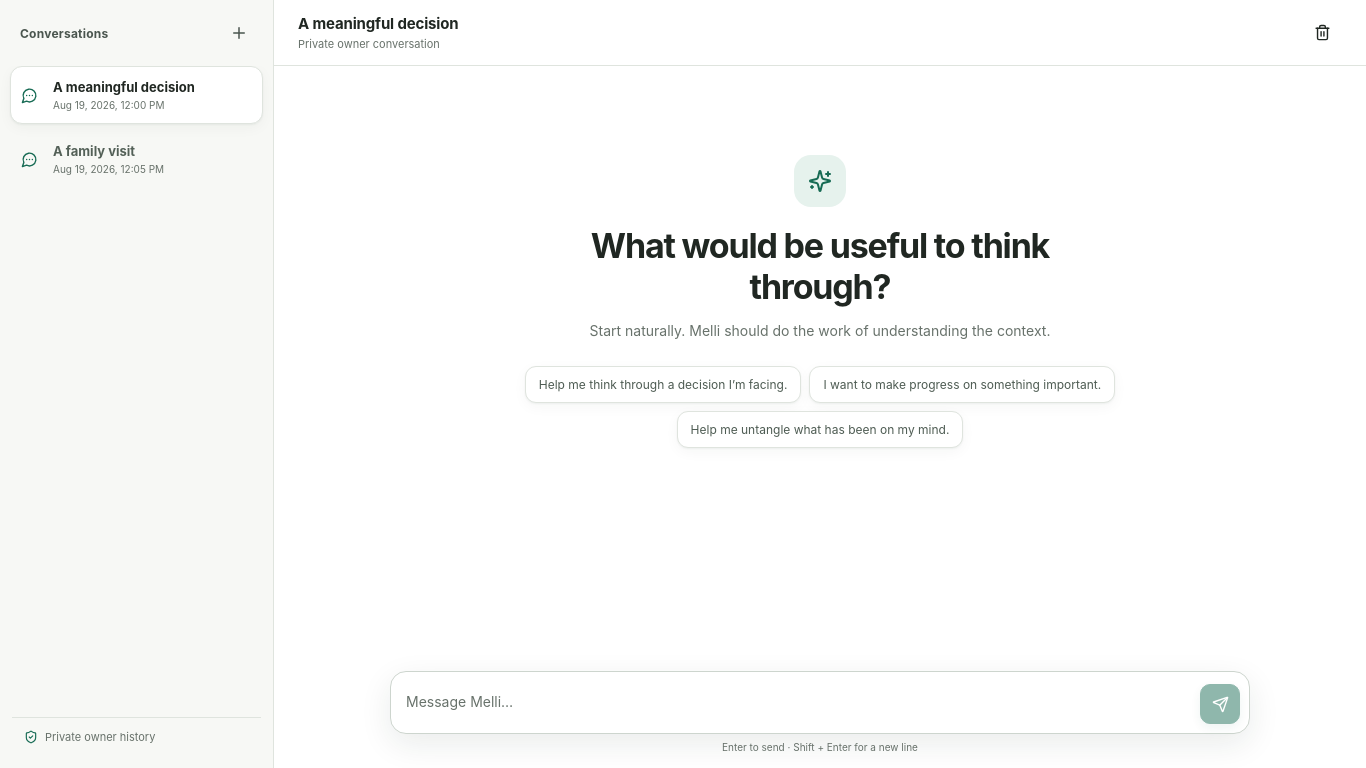
Test: ConversationPage › keeps drafts and failed retries with the thread that owns them
Type "First-thread draft" into the text box labelled "Message Melli" at (798, 702), box 406,681 -> 1190,724
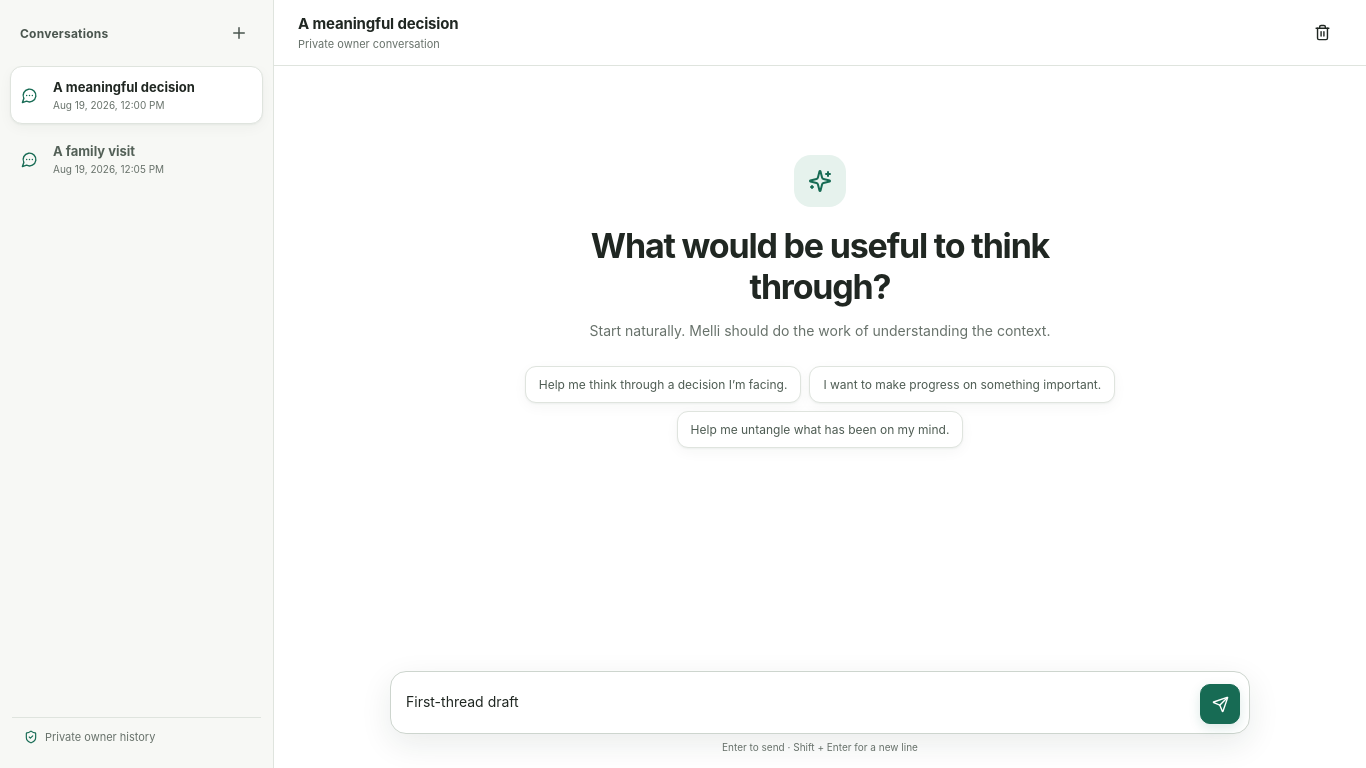
Click the button named "Send message" at (1220, 704), box 1200,684 -> 1240,724
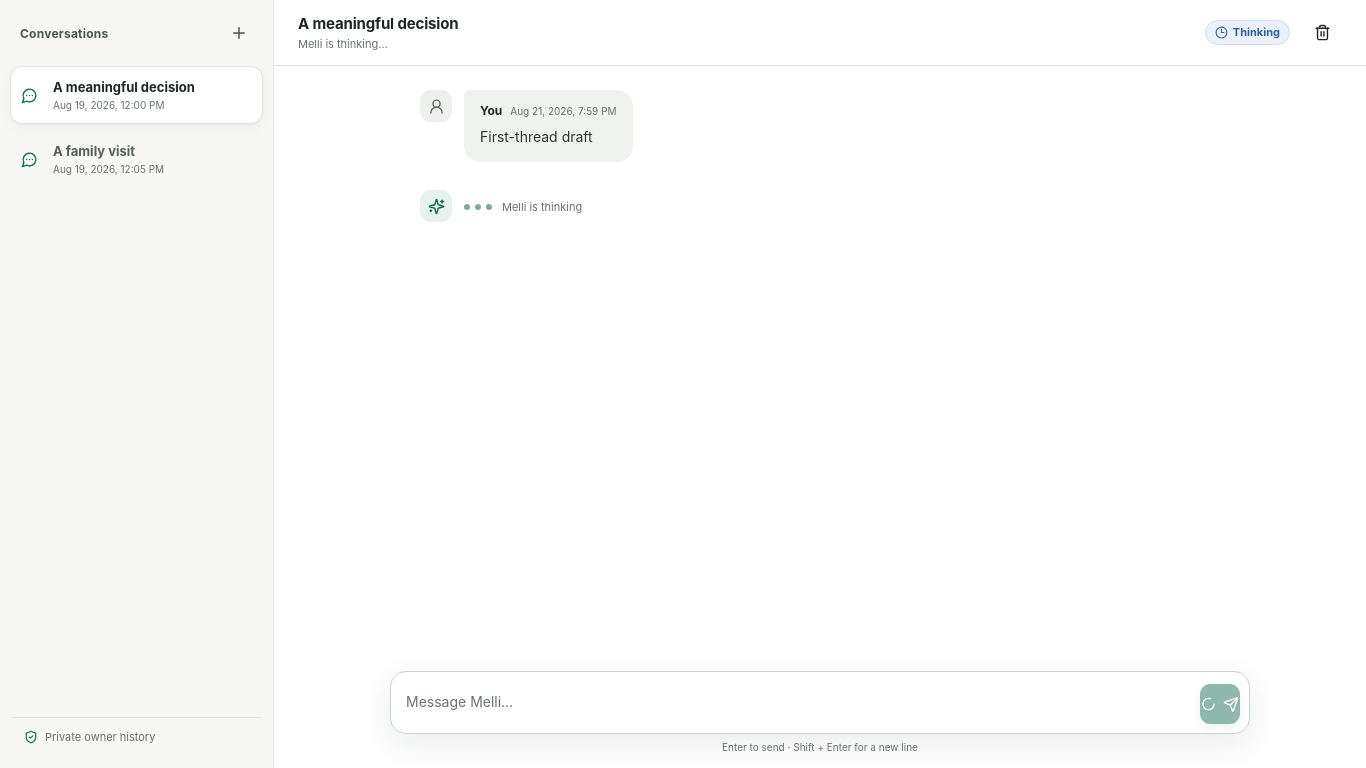
Click the button "A family visit Aug 19, 2026, 12:05 PM" at (136, 159), box 10,130 -> 263,188
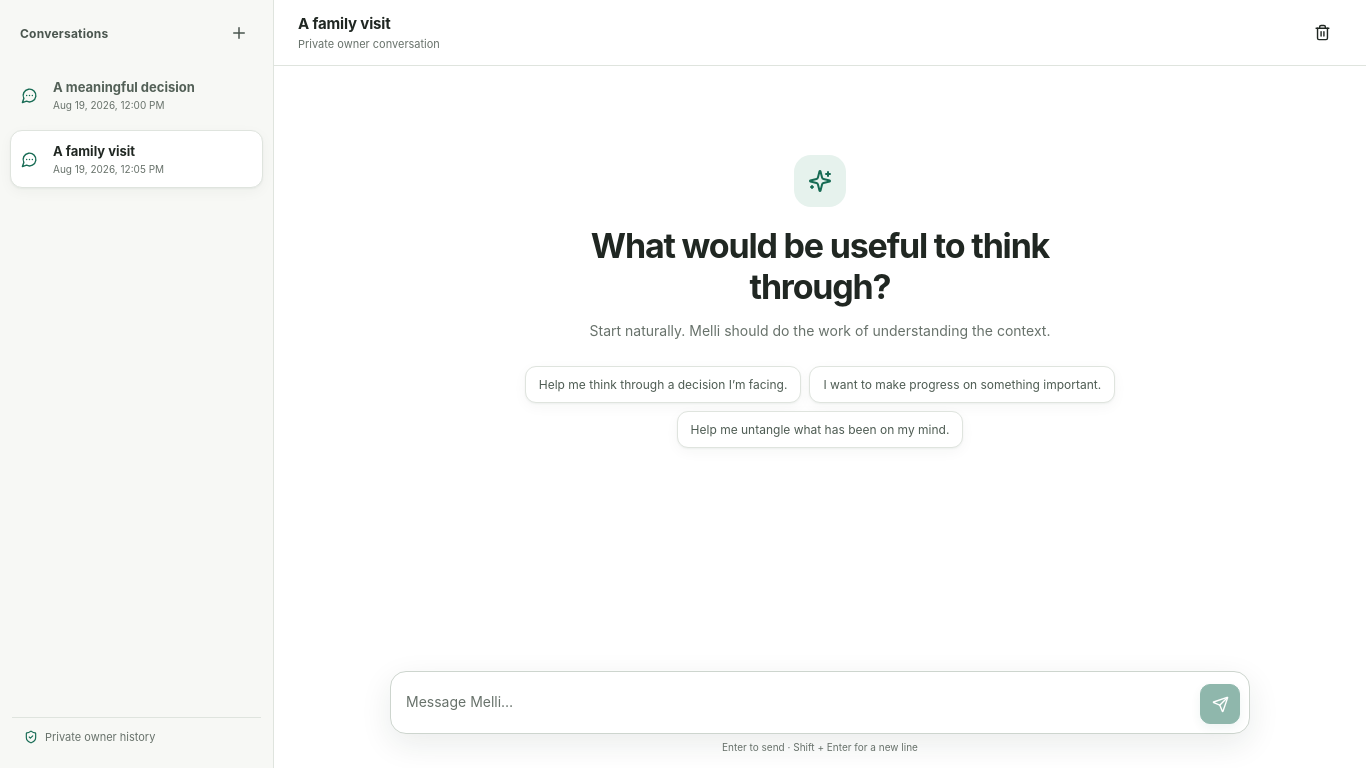
Type "Second-thread draft" into the text box labelled "Message Melli" at (798, 702), box 406,681 -> 1190,724
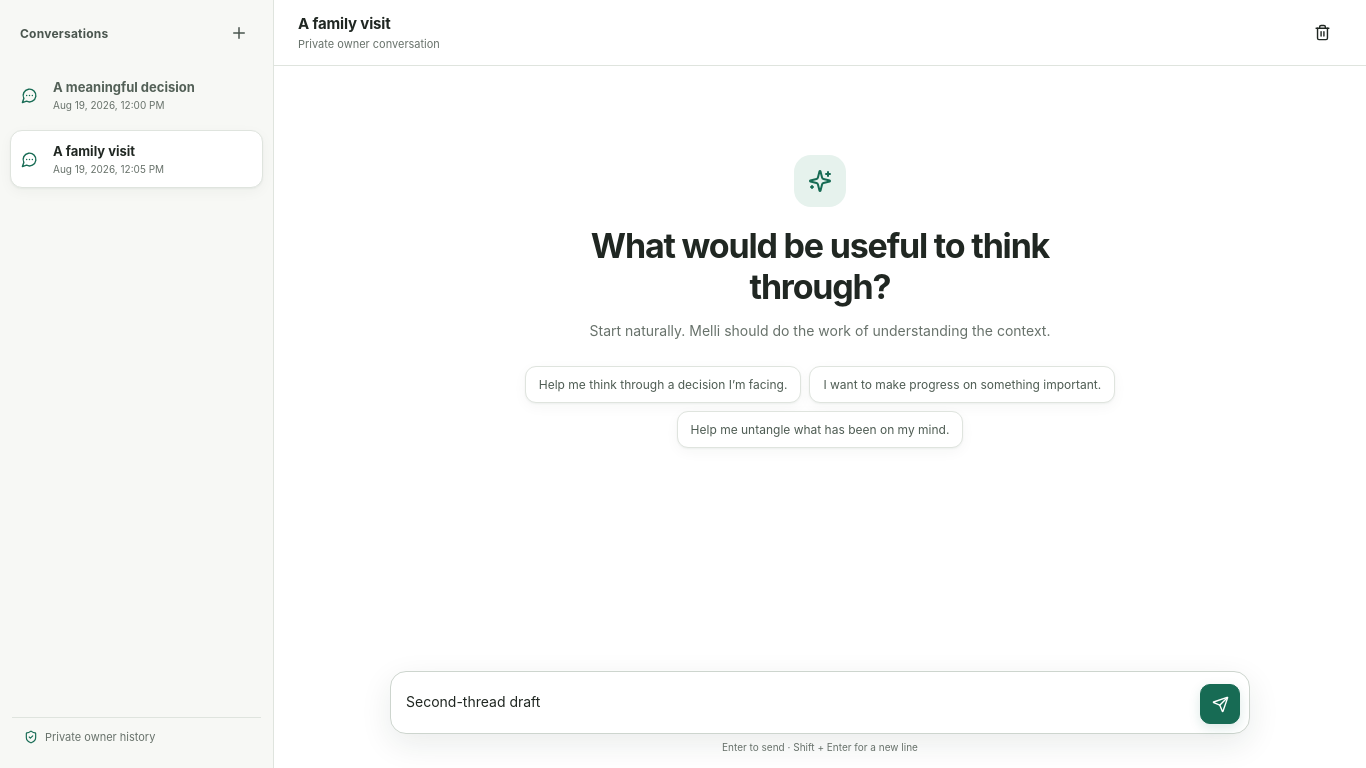
Expected: the message "Message not sent" is not shown
Click the button "A meaningful decision Aug 19, 2026, 12:00 PM" at (136, 95), box 10,66 -> 263,124
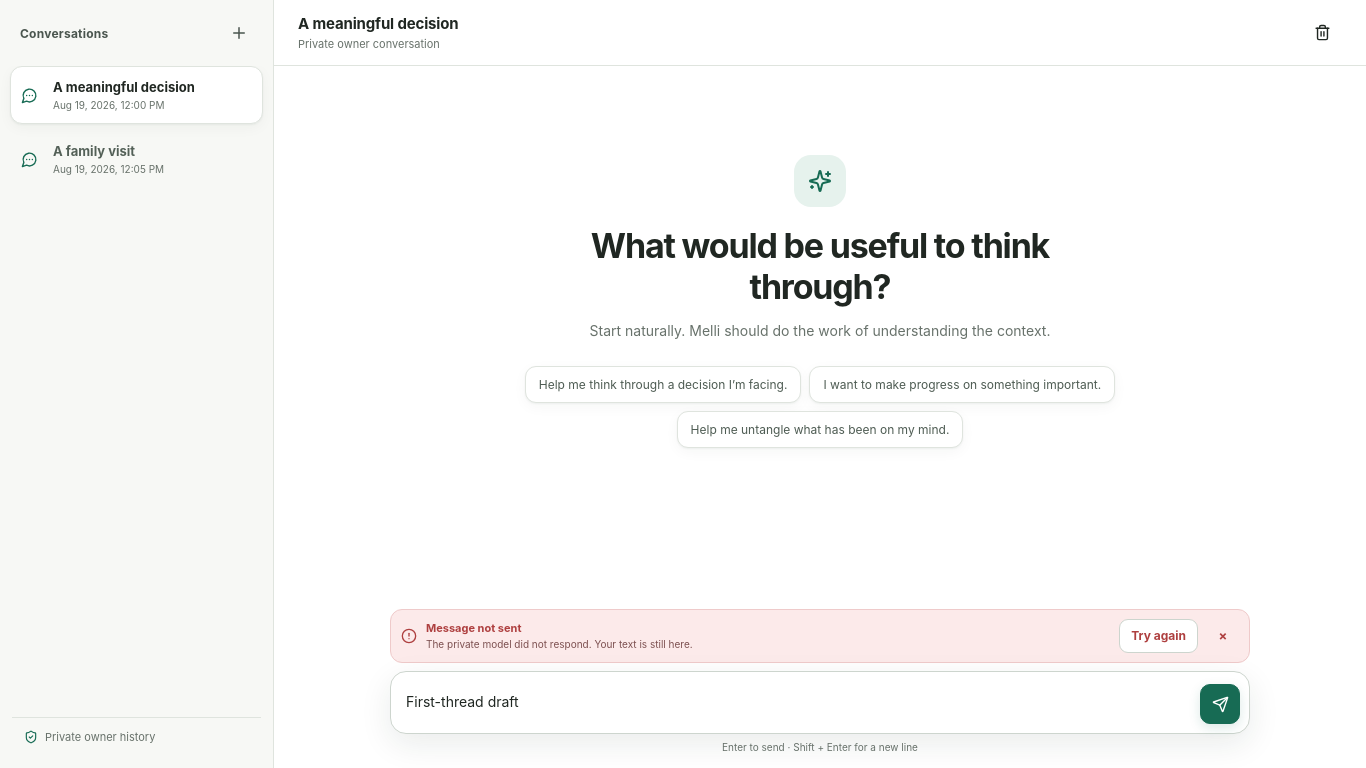
Expected: the text "Message not sent" is shown, 426,621 -> 521,635
